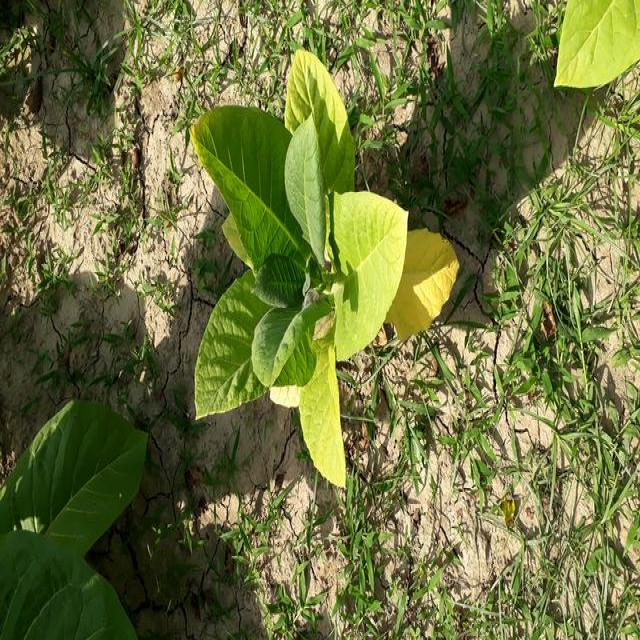crop: (180, 61, 454, 480), (0, 403, 150, 640), (551, 0, 640, 103)
